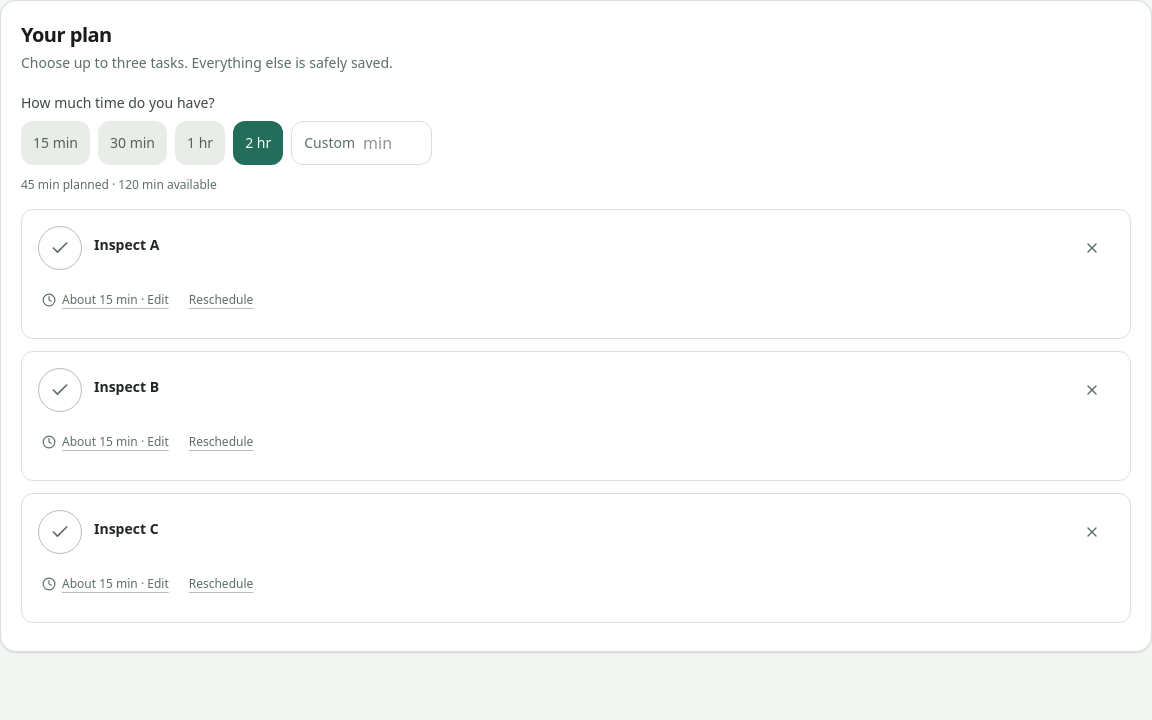
completion stays clear before refreshed server data arrives › removes finished plan cards, frees their slots, and keeps future repeats out of the plan
The width and height of the screenshot is (1152, 720).
Click the button named "Complete Inspect A". click: coordinates (60, 248)
box: [38,226,82,270]
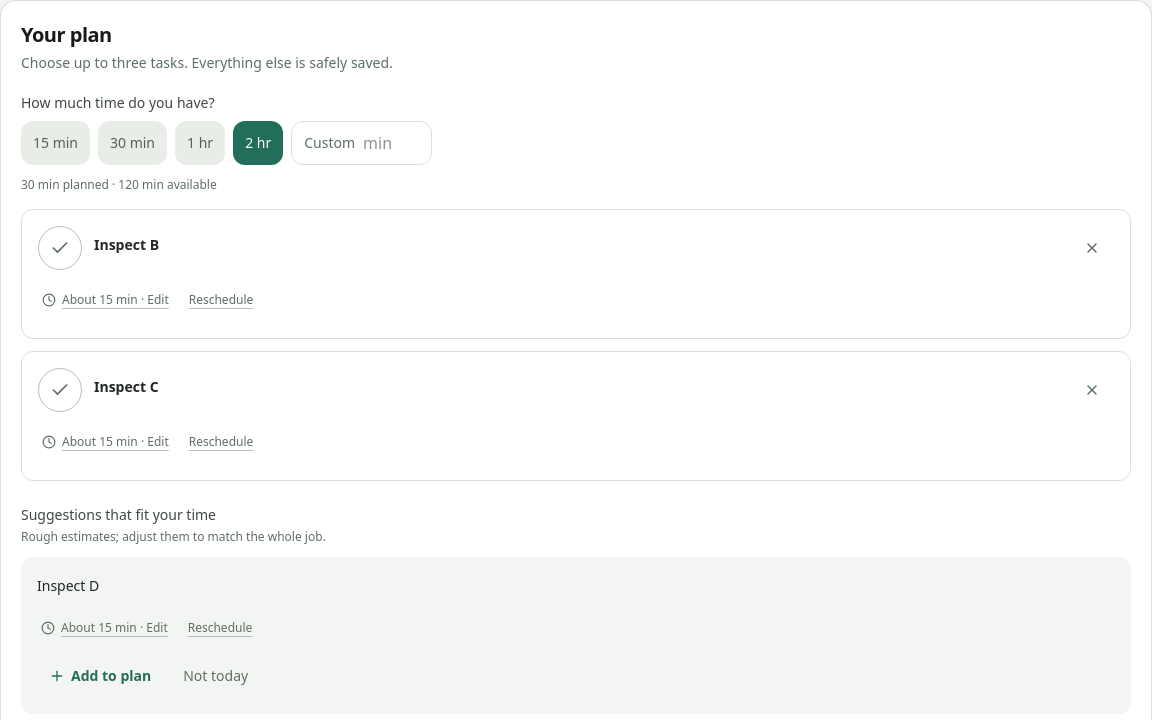
Click the button "Add to plan". click: coordinates (100, 676)
box: [37,654,163,698]
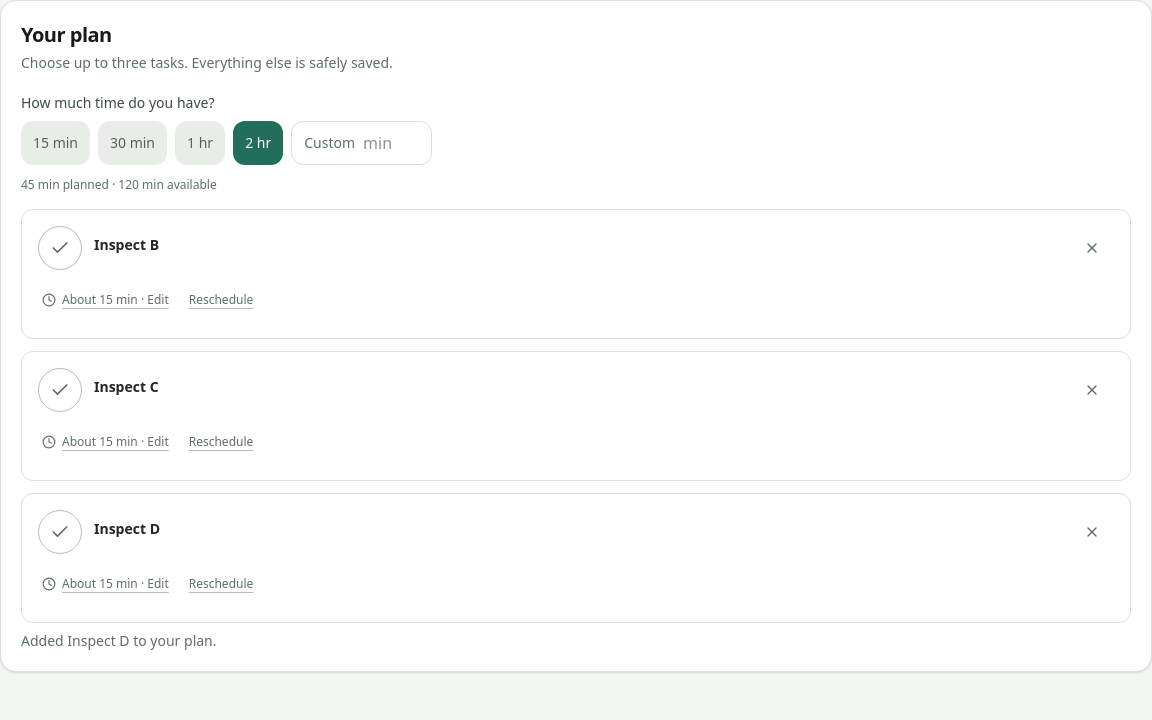
Check: the button named "Complete Inspect D" is shown, box [38,510,82,554]
